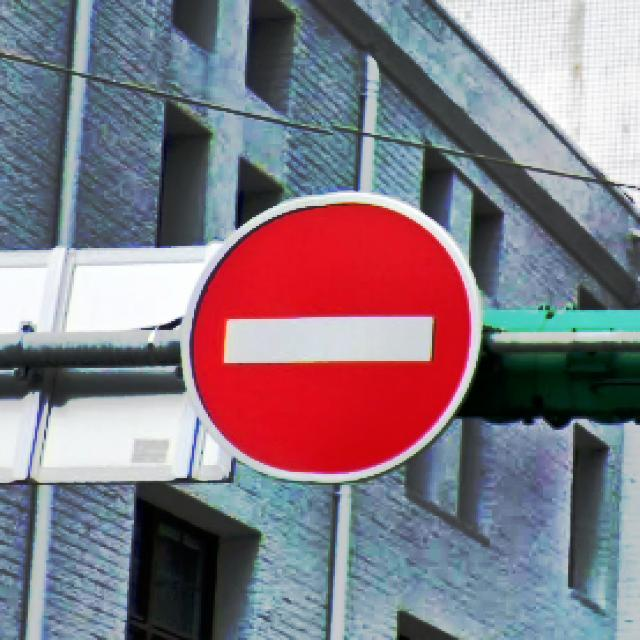noentry: (178, 188, 485, 485)
